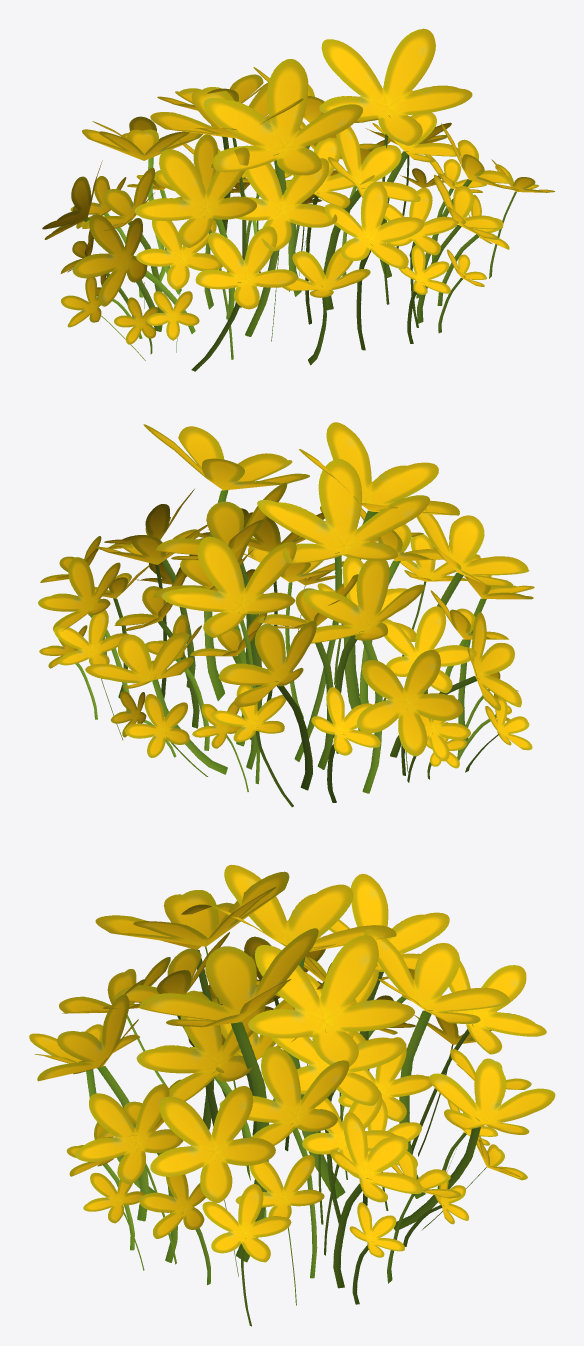
Rendered from Flowers_Yellow.fbx.
The picture shows the model from 3 angles, top to bottom: view 1: azimuth 30°, elevation 25°; view 2: azimuth 150°, elevation 25°; view 3: azimuth 270°, elevation 25°; orthographic projection. The views are drawn at different scales.
Visible parts, largest first — view 1: Flowers_Yellow_lp; view 2: Flowers_Yellow_lp; view 3: Flowers_Yellow_lp.
Part boxes in pixels (x1,y1,x2,y2): Flowers_Yellow_lp: [42, 28, 554, 371]; Flowers_Yellow_lp: [38, 422, 534, 807]; Flowers_Yellow_lp: [29, 865, 555, 1326].
Bounding box in the file's own units: 61.06 × 34.07 × 48.56.
1 material, 1 textured.
